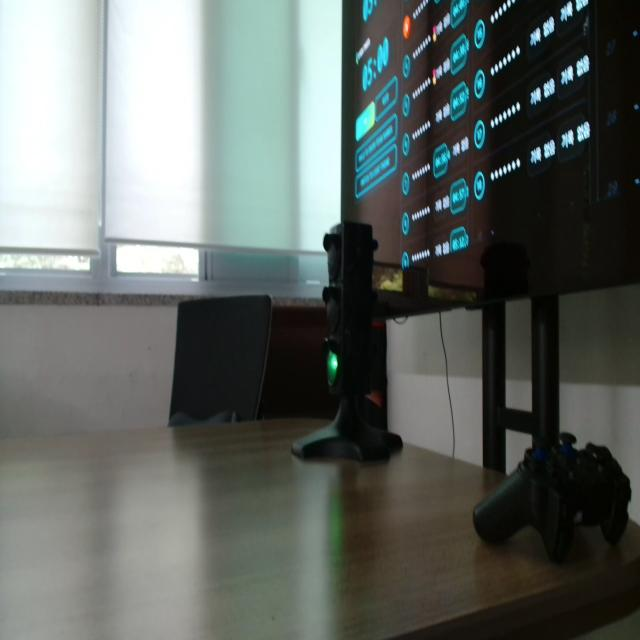green_light: (327, 352, 338, 385)
